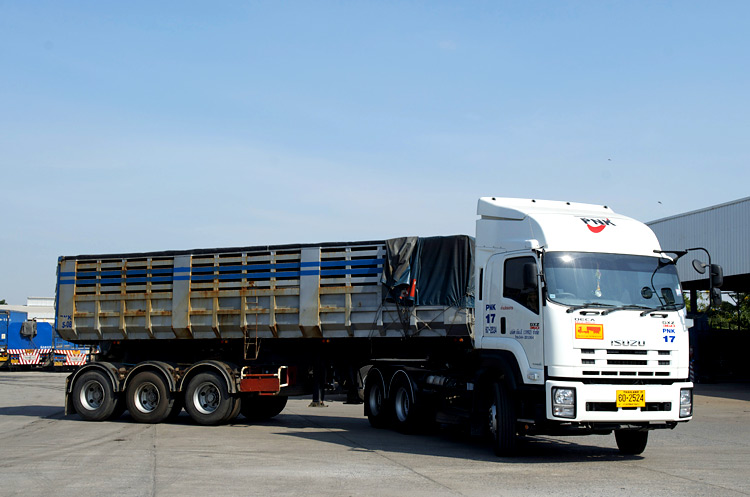truck: (49, 197, 693, 458)
